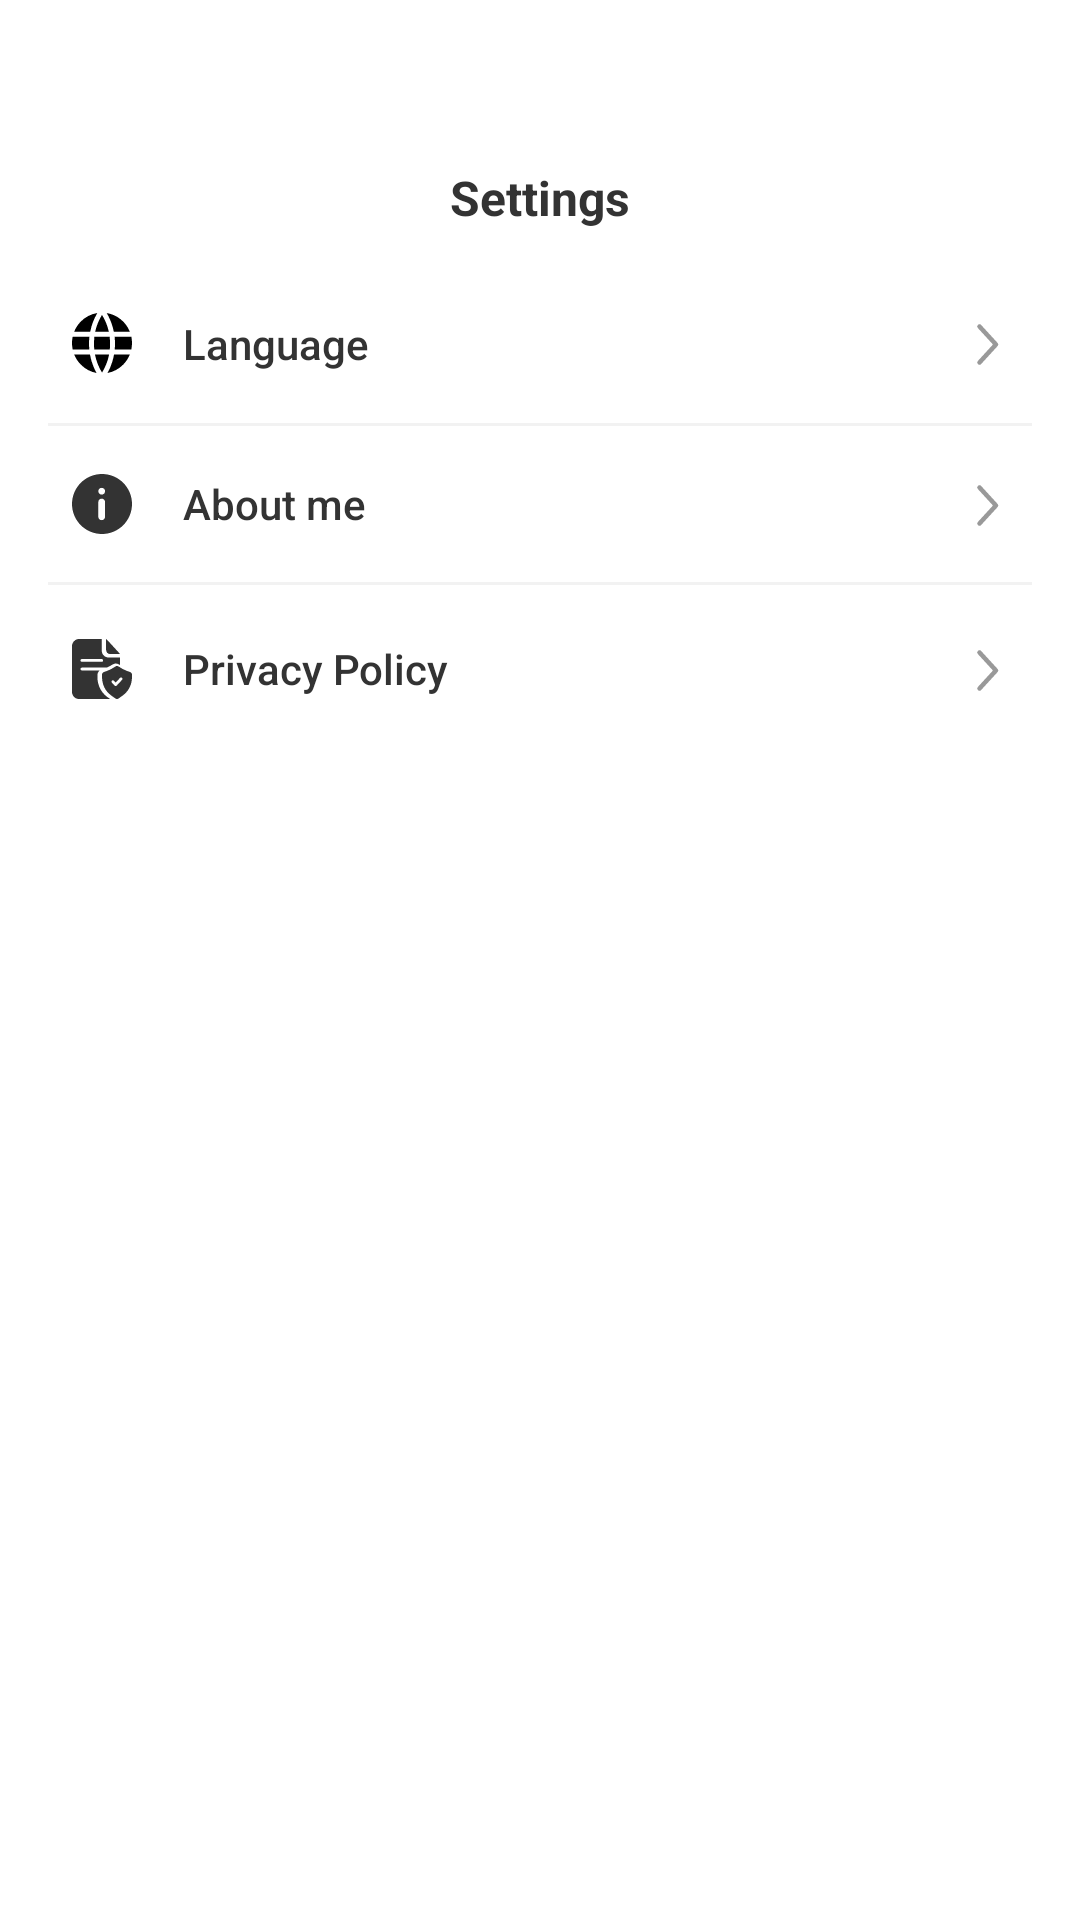

Icon bounding boxes for this 1080x1920 phone screenshot, format (x1, y1, x2, y2):
settings about: (72, 474, 132, 534)
settings chevron right: (977, 324, 999, 365), (977, 485, 999, 526), (977, 650, 999, 691)
settings privacy: (72, 639, 132, 699)
